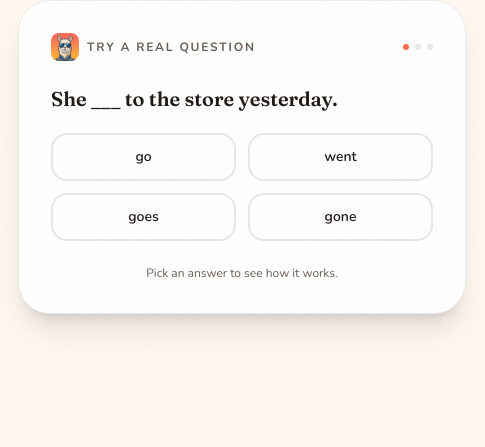
Test: LessonDemo › shows correct feedback when the right answer is picked
The image size is (485, 447).
Click the button "went" at (340, 157), box [248,133,433,181]
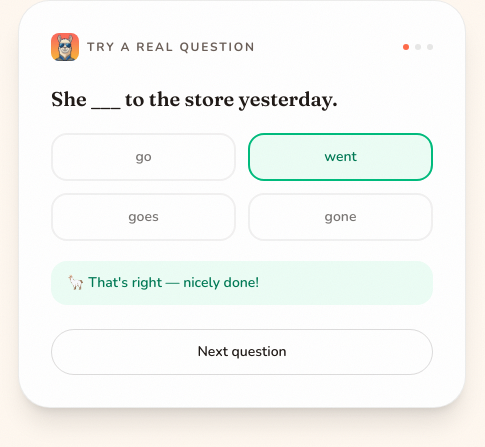
Check: the text "🦙 That's right — nicely done!" is shown, box [51,261,433,305]
